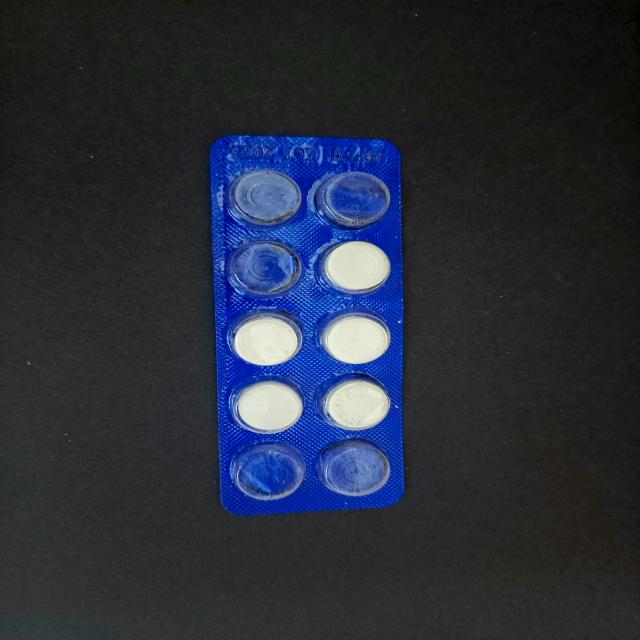defect: (311, 168, 395, 230), (224, 237, 306, 300), (223, 168, 305, 230), (230, 440, 310, 503), (316, 437, 394, 498)
